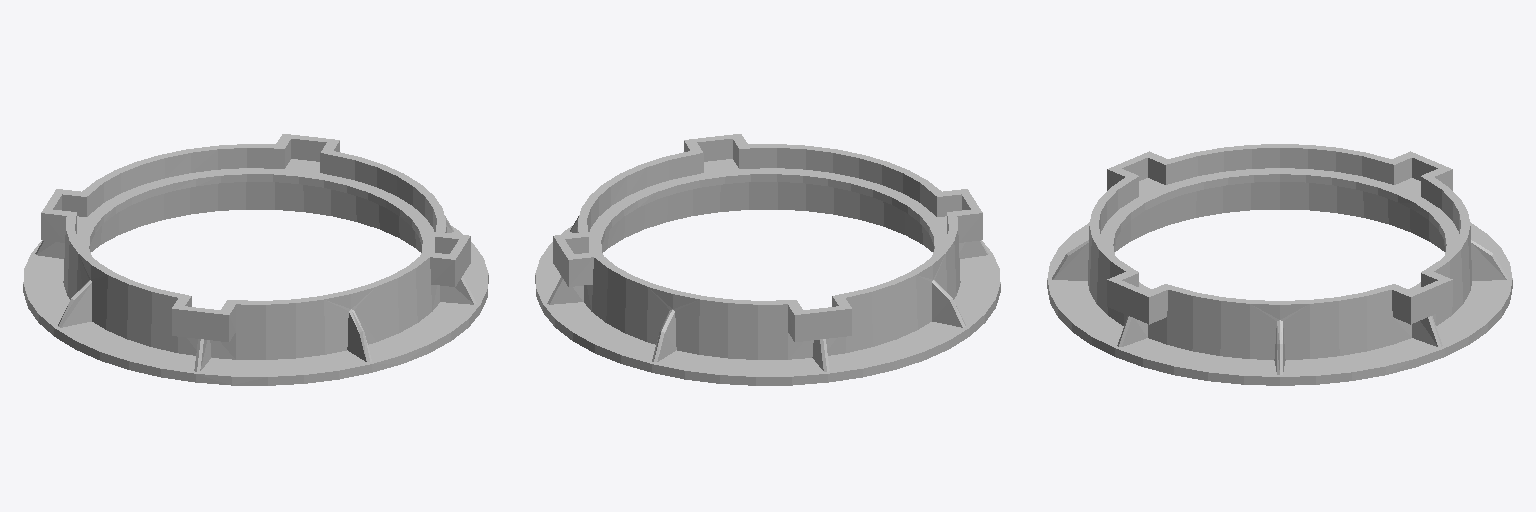
The model's file is Manhole.obj.
3 renders of one model, left to right at view 1: azimuth 30°, elevation 25°; view 2: azimuth 150°, elevation 25°; view 3: azimuth 270°, elevation 25°, orthographic.
Parts seen in each view (by area): view 1: Manhole_mesh_Cylinder.002; view 2: Manhole_mesh_Cylinder.002; view 3: Manhole_mesh_Cylinder.002.
Part boxes in pixels (left/top/right/bottom): Manhole_mesh_Cylinder.002: left=23, top=134, right=488, bottom=385; Manhole_mesh_Cylinder.002: left=535, top=134, right=1000, bottom=385; Manhole_mesh_Cylinder.002: left=1047, top=144, right=1512, bottom=385.
Size of the model in its own units: 0.8338 by 0.125 by 0.8338.